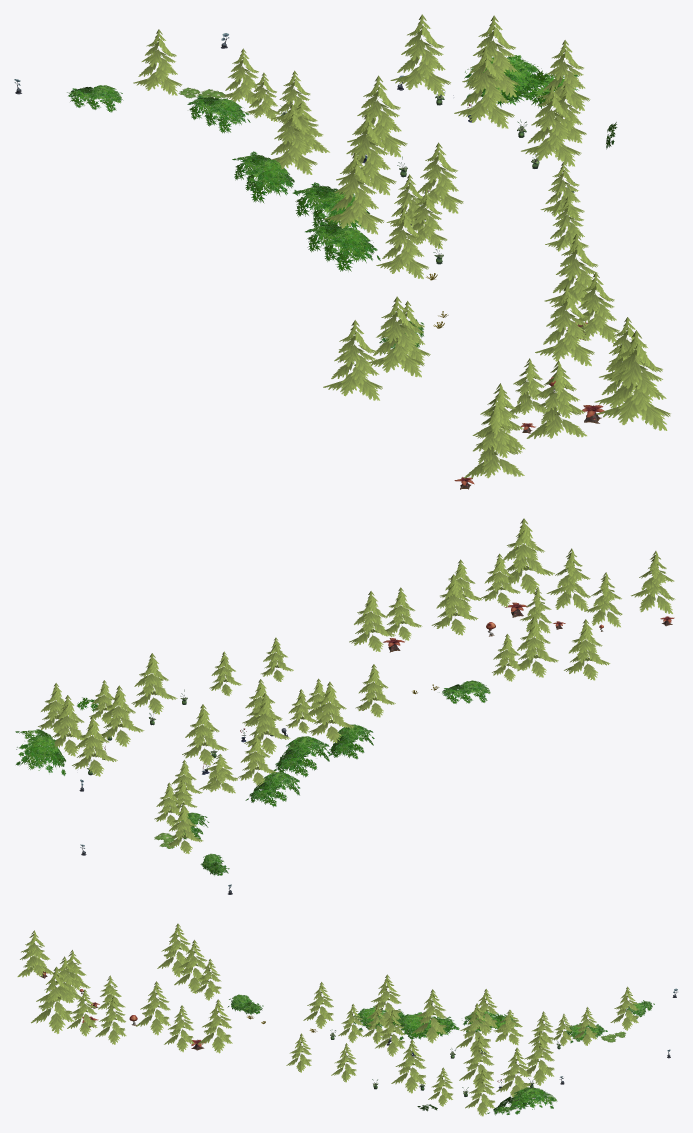
The model's file is zhibei8_1.fbx.
The picture shows the model from 3 angles, top to bottom: view 1: azimuth 30°, elevation 25°; view 2: azimuth 150°, elevation 25°; view 3: azimuth 270°, elevation 25°; orthographic projection. The views are drawn at different scales.
Visible parts, largest first — view 1: zhibei8_1; view 2: zhibei8_1; view 3: zhibei8_1.
Part boxes in pixels (x1,y1,x2,y2): zhibei8_1: (14,14,670,489); zhibei8_1: (15,518,675,894); zhibei8_1: (17,923,677,1116).
Bounding box in the file's own units: 4212 × 893 × 7582.
